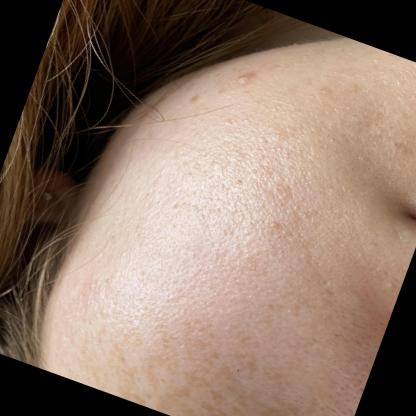Healthy Skin: (48, 60, 416, 416)
